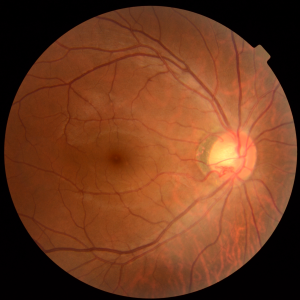glaucoma: (92, 104, 274, 224)
